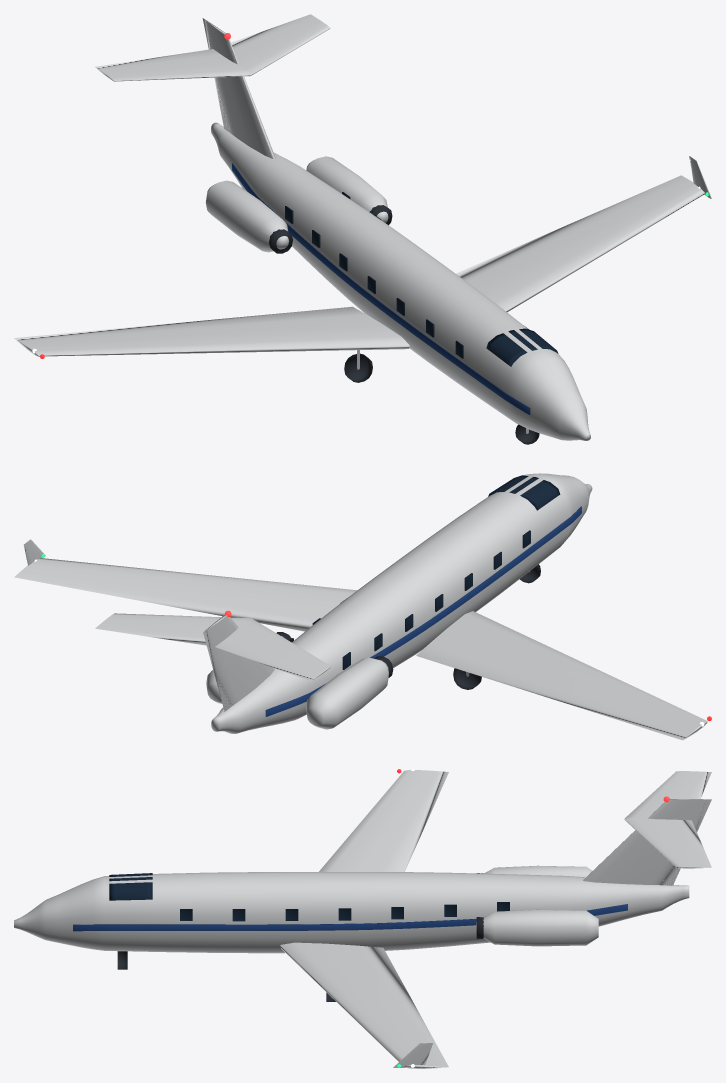
The picture shows the model from 3 angles, top to bottom: view 1: azimuth 30°, elevation 25°; view 2: azimuth 150°, elevation 25°; view 3: azimuth 270°, elevation 25°; orthographic projection. The views are drawn at different scales.
Parts seen in each view (by area): view 1: body, gearL; view 2: body, gearL; view 3: body.
Boxes of the visible parts, <box> form: body: <box>14,14,711,440</box>; gearL: <box>344,350,372,382</box>; body: <box>14,473,707,740</box>; gearL: <box>453,668,481,689</box>; body: <box>14,769,711,1068</box>.
Bounding box in the file's own units: 21 × 5.95 × 20.9.
